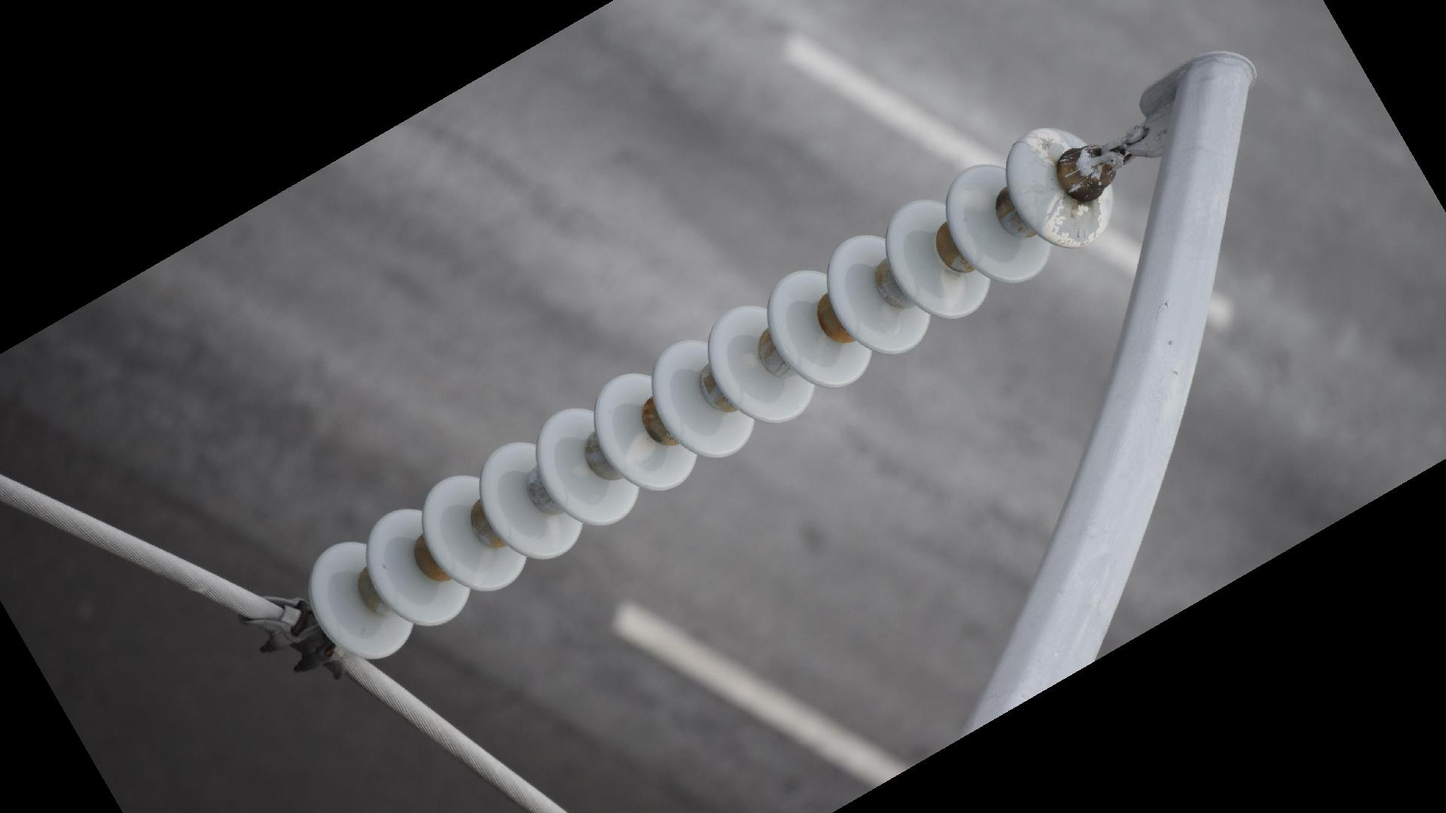insulator: (301, 120, 1115, 666)
insulator_flashover: (1039, 191, 1113, 251), (1018, 125, 1075, 165)
